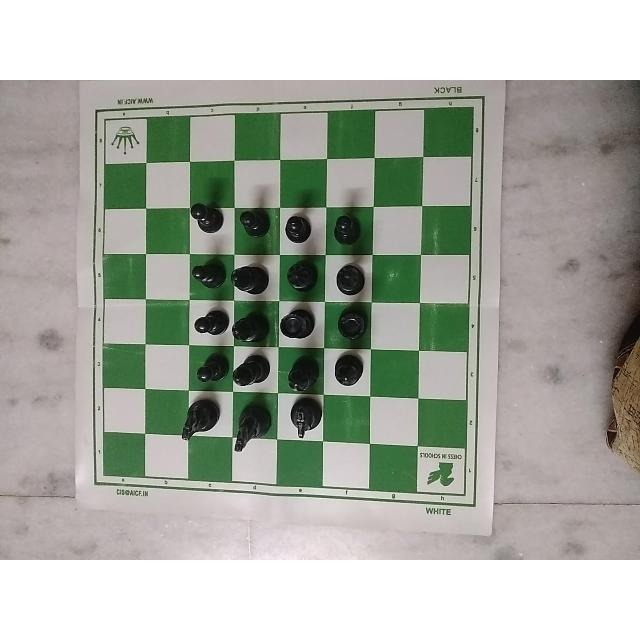black-bishop: (325, 259, 375, 304), (228, 257, 276, 301), (283, 257, 323, 299), (332, 352, 372, 394), (285, 353, 321, 399), (232, 352, 274, 391), (226, 305, 268, 340)
black-knight: (230, 398, 274, 458), (177, 393, 219, 446), (288, 394, 328, 446)
black-pawn: (186, 303, 236, 345), (189, 346, 230, 389), (331, 208, 369, 252), (185, 198, 223, 238), (191, 259, 231, 295), (278, 206, 314, 245), (233, 206, 275, 238)
black-rook: (325, 299, 367, 347), (278, 300, 319, 345)
